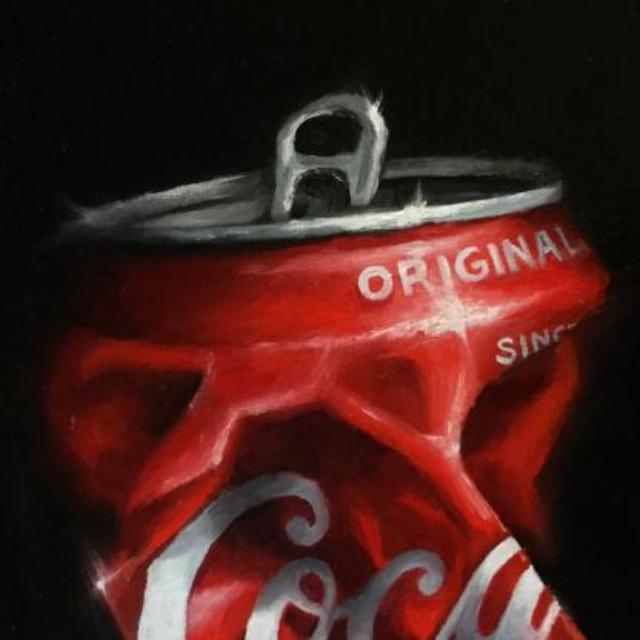metal: (45, 92, 605, 637)
